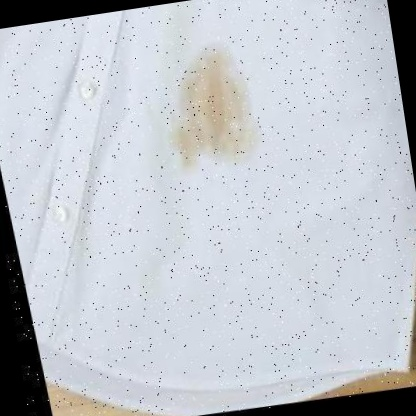coffee: (182, 56, 252, 156)
